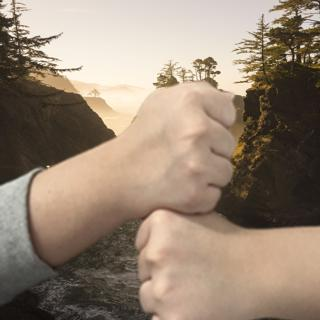CAREFUL: (64, 82, 308, 319)
